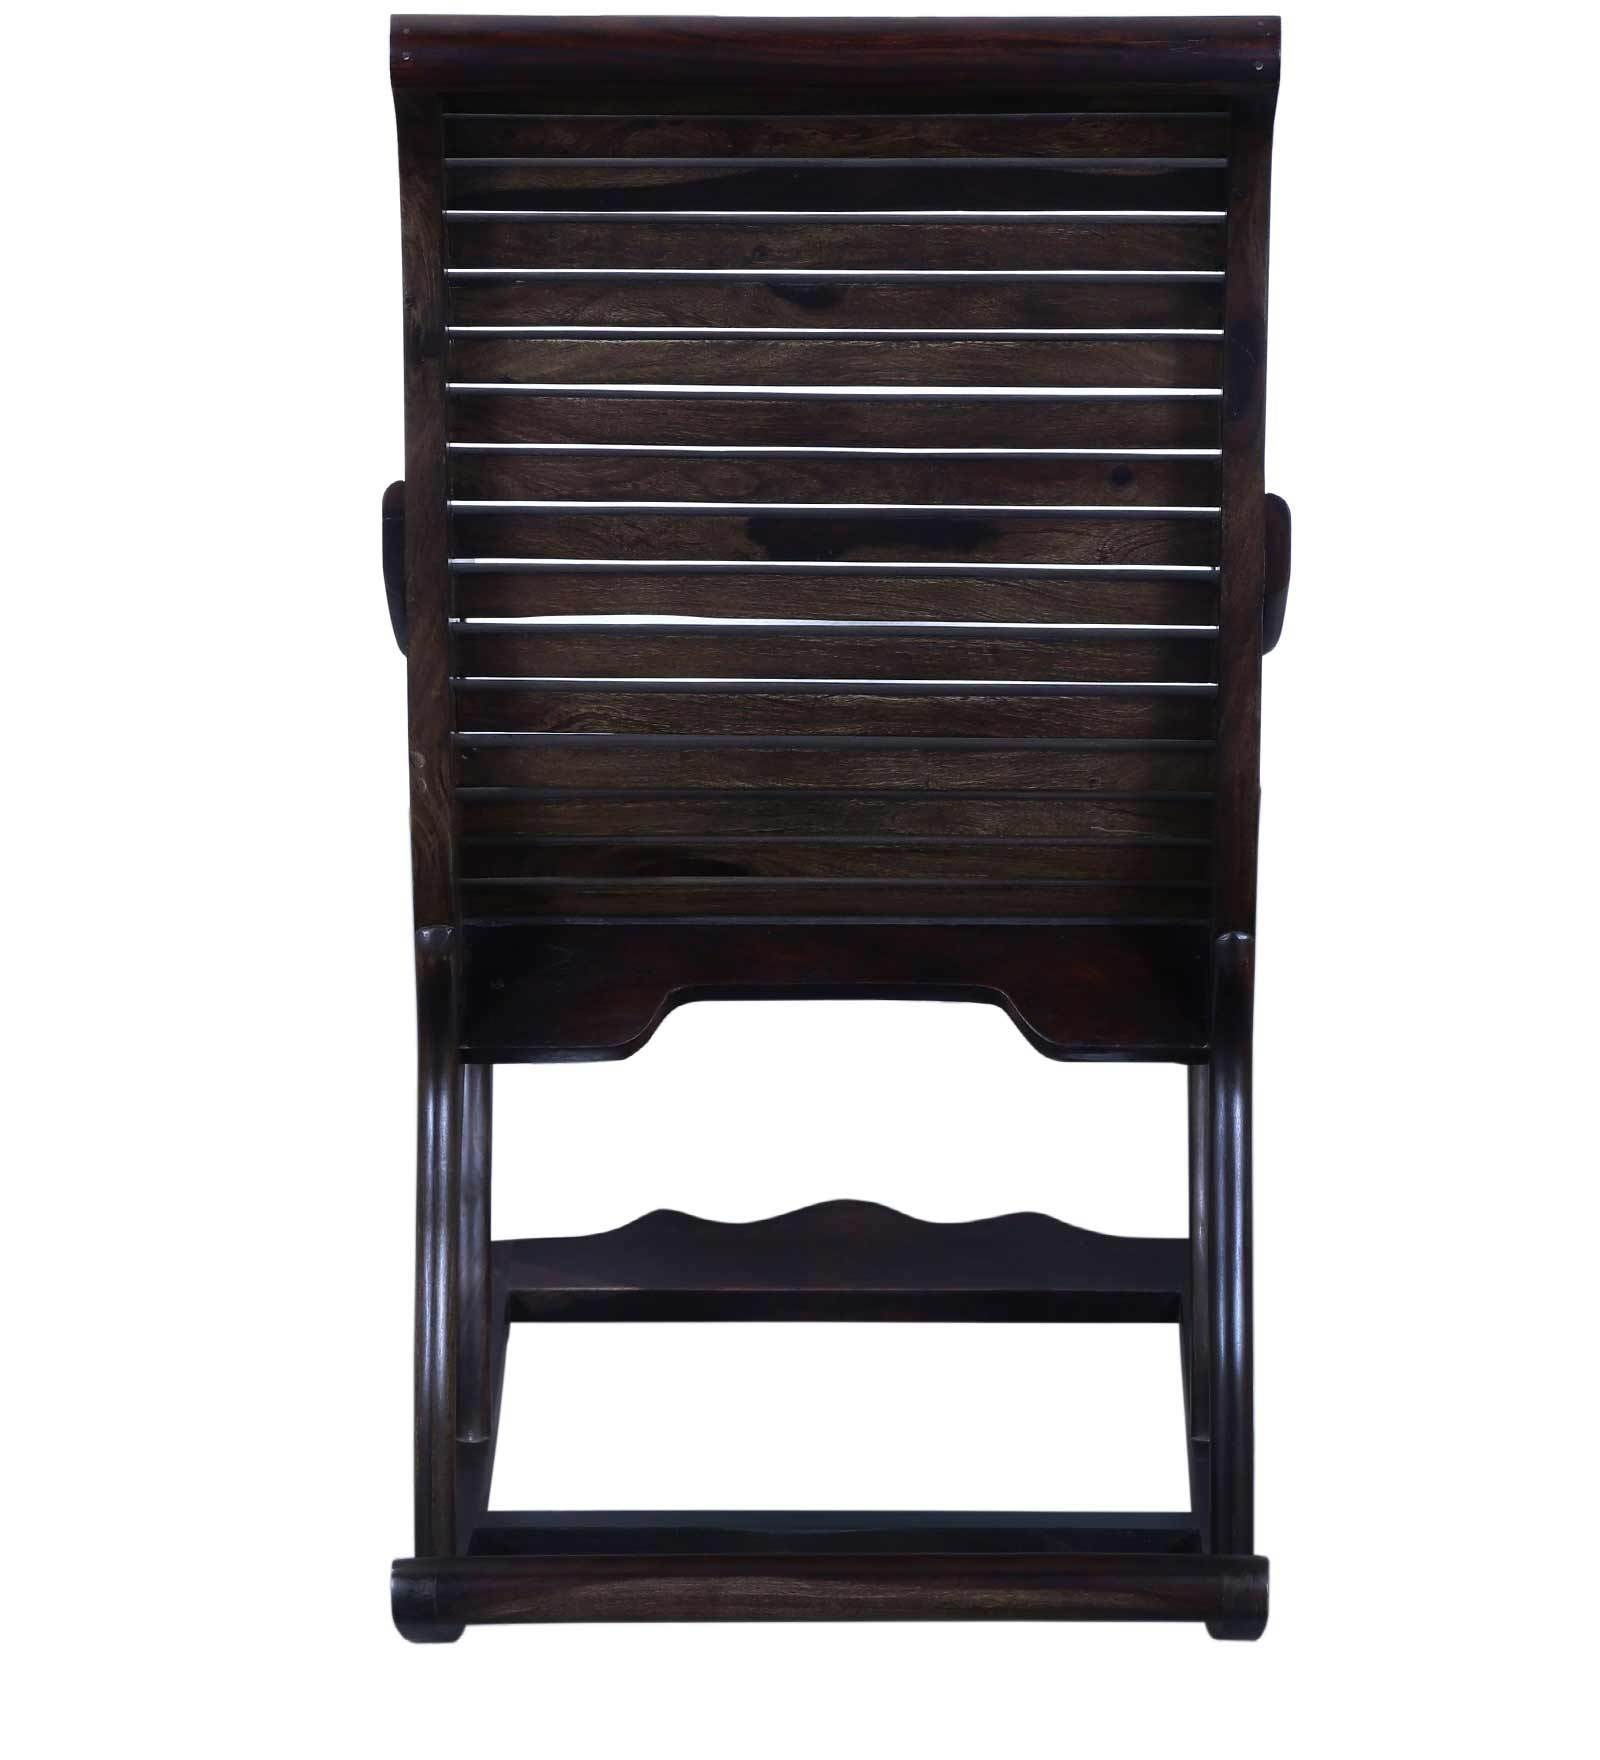Acklom Rocking Chair in Warm Chestnut Finish by Amberville: (325, 17, 1352, 1680)
